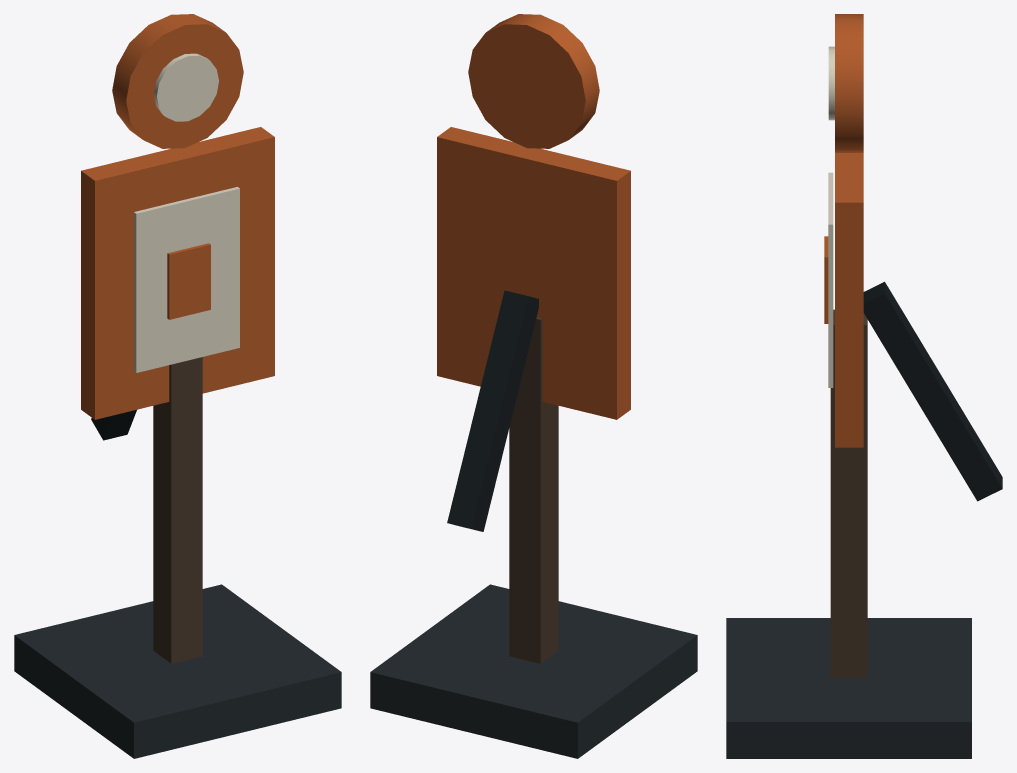
The model's file is target.glb.
3 views of the same model, side by side, from view 1: azimuth 30°, elevation 25°; view 2: azimuth 150°, elevation 25°; view 3: azimuth 270°, elevation 25° (orthographic). The views are drawn at different scales.
Visible parts, largest first — view 1: Base, Torso, TorsoRing, Post, Head, HeadRing, TorsoCore, Stand; view 2: Torso, Base, Post, Head, Stand; view 3: Base, Post, Torso, Stand, Head, TorsoRing, HeadRing.
Boxes of the visible parts, x1,y1,x2,y2 form: Base: (14,584,341,758); Torso: (81,127,274,419); TorsoRing: (134,187,239,372); Post: (153,357,202,663); Head: (112,14,243,148); HeadRing: (154,53,218,121); TorsoCore: (167,243,210,319); Stand: (91,410,136,440); Torso: (437,127,630,419); Base: (370,584,697,758); Post: (509,317,558,663); Head: (468,14,599,148); Stand: (447,290,538,531); Base: (726,618,971,758); Post: (830,309,867,677); Torso: (835,153,863,447); Stand: (863,281,1002,501); Head: (835,14,863,152); TorsoRing: (828,172,833,387); HeadRing: (828,46,834,120).
Bounding box in the file's own units: 0.6 × 1.85 × 0.6745.
